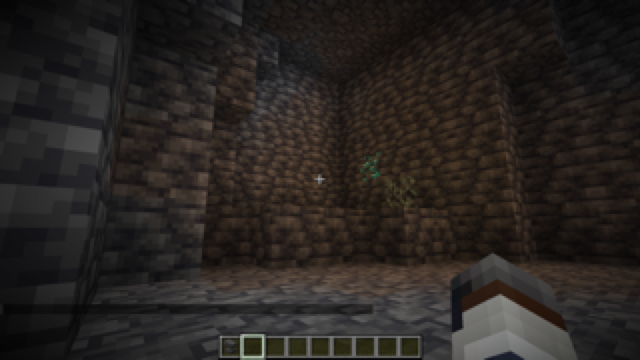diamond: (358, 149, 384, 186)
